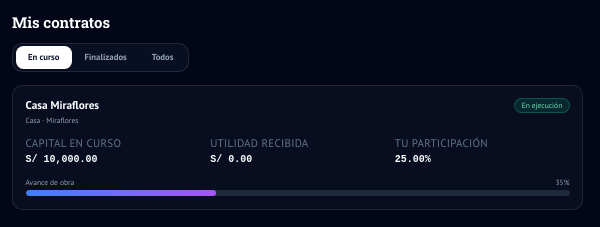
Test case: ContratosLista › un contrato finalizado muestra su resultado final con signo
Click the tab "Finalizados": (106, 57) [72,46,139,68]
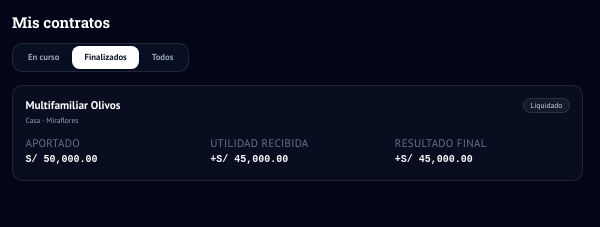
expect the text "Avance de obra" is gone: met
